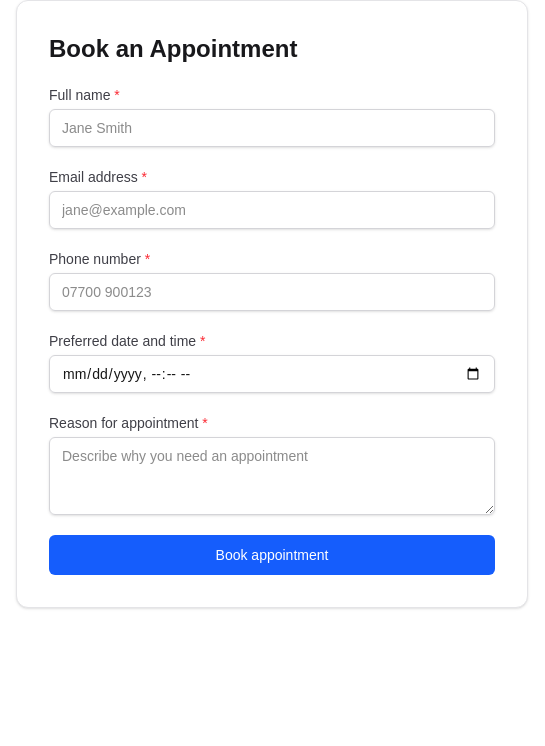
Test: BookingForm › validation › shows validation errors on empty submit
Click the button "Book appointment" at (272, 555), box [49,535,495,575]
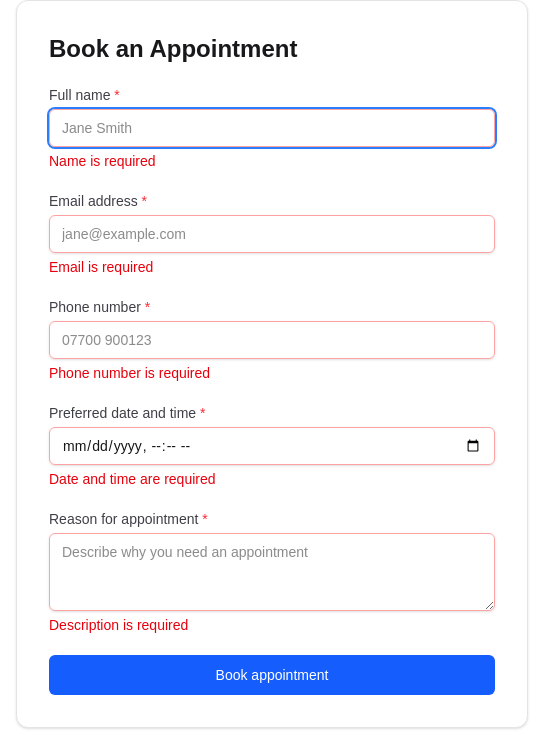
Check: the text "Name is required" is shown, box [49,153,156,169]
Check: the text "Email is required" is shown, box [49,259,153,275]
Check: the text "Phone number is required" is shown, box [49,365,210,381]
